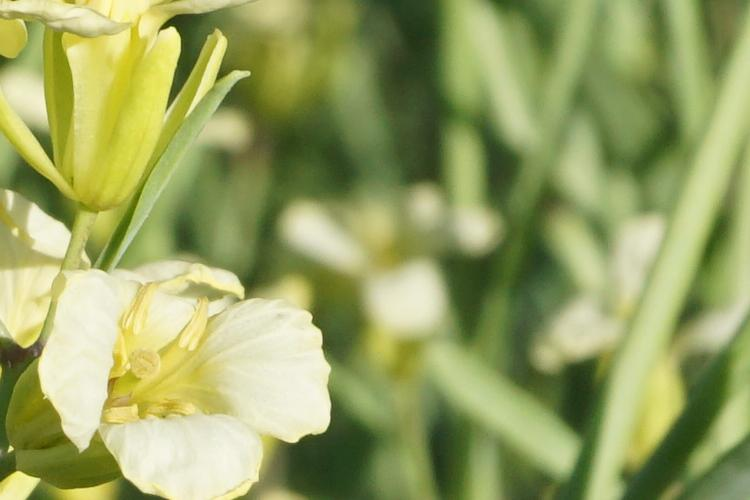white: (31, 278, 339, 486)
yellow: (28, 10, 193, 225)
